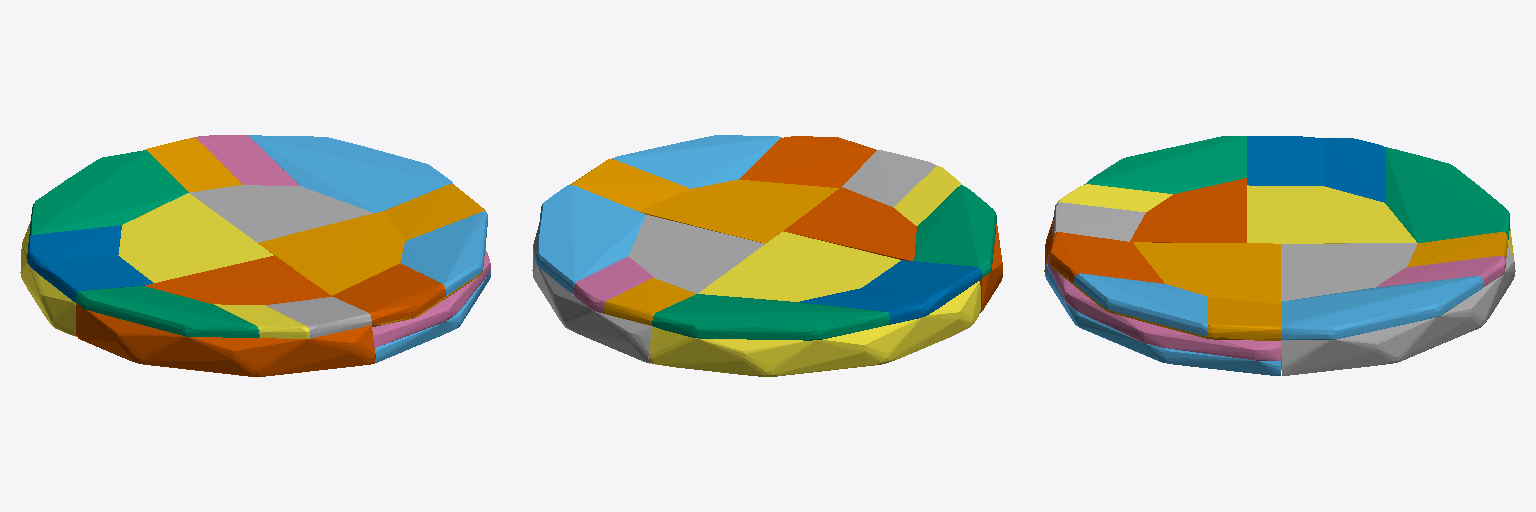
robot.urdf — root:
<robot name="root">
  <link name="link_convex_piece_012.obj">
    <inertial>
      <origin xyz="0 0 0" rpy="0 0 0"/>
    </inertial>
    <visual>
      <origin xyz="0 0 0" rpy="0 0 0"/>
      <geometry>
        <mesh filename="meshes/convex_piece_012.obj" scale="1.0 1.0 1.0"/>
      </geometry>
    </visual>
    <collision>
      <origin xyz="0 0 0" rpy="0 0 0"/>
      <geometry>
        <mesh filename="meshes/convex_piece_012.obj" scale="1.0 1.0 1.0"/>
      </geometry>
    </collision>
  </link>
  <link name="link_convex_piece_014.obj">
    <inertial>
      <origin xyz="0 0 0" rpy="0 0 0"/>
    </inertial>
    <visual>
      <origin xyz="0 0 0" rpy="0 0 0"/>
      <geometry>
        <mesh filename="meshes/convex_piece_014.obj" scale="1.0 1.0 1.0"/>
      </geometry>
    </visual>
    <collision>
      <origin xyz="0 0 0" rpy="0 0 0"/>
      <geometry>
        <mesh filename="meshes/convex_piece_014.obj" scale="1.0 1.0 1.0"/>
      </geometry>
    </collision>
  </link>
  <joint name="link_convex_piece_014.obj_joint" type="fixed">
    <origin xyz="0 0 0" rpy="0 0 0"/>
    <parent link="link_convex_piece_012.obj"/>
    <child link="link_convex_piece_014.obj"/>
  </joint>
  <link name="link_convex_piece_004.obj">
    <inertial>
      <origin xyz="0 0 0" rpy="0 0 0"/>
    </inertial>
    <visual>
      <origin xyz="0 0 0" rpy="0 0 0"/>
      <geometry>
        <mesh filename="meshes/convex_piece_004.obj" scale="1.0 1.0 1.0"/>
      </geometry>
    </visual>
    <collision>
      <origin xyz="0 0 0" rpy="0 0 0"/>
      <geometry>
        <mesh filename="meshes/convex_piece_004.obj" scale="1.0 1.0 1.0"/>
      </geometry>
    </collision>
  </link>
  <joint name="link_convex_piece_004.obj_joint" type="fixed">
    <origin xyz="0 0 0" rpy="0 0 0"/>
    <parent link="link_convex_piece_014.obj"/>
    <child link="link_convex_piece_004.obj"/>
  </joint>
  <link name="link_convex_piece_001.obj">
    <inertial>
      <origin xyz="0 0 0" rpy="0 0 0"/>
    </inertial>
    <visual>
      <origin xyz="0 0 0" rpy="0 0 0"/>
      <geometry>
        <mesh filename="meshes/convex_piece_001.obj" scale="1.0 1.0 1.0"/>
      </geometry>
    </visual>
    <collision>
      <origin xyz="0 0 0" rpy="0 0 0"/>
      <geometry>
        <mesh filename="meshes/convex_piece_001.obj" scale="1.0 1.0 1.0"/>
      </geometry>
    </collision>
  </link>
  <joint name="link_convex_piece_001.obj_joint" type="fixed">
    <origin xyz="0 0 0" rpy="0 0 0"/>
    <parent link="link_convex_piece_004.obj"/>
    <child link="link_convex_piece_001.obj"/>
  </joint>
  <link name="link_convex_piece_015.obj">
    <inertial>
      <origin xyz="0 0 0" rpy="0 0 0"/>
    </inertial>
    <visual>
      <origin xyz="0 0 0" rpy="0 0 0"/>
      <geometry>
        <mesh filename="meshes/convex_piece_015.obj" scale="1.0 1.0 1.0"/>
      </geometry>
    </visual>
    <collision>
      <origin xyz="0 0 0" rpy="0 0 0"/>
      <geometry>
        <mesh filename="meshes/convex_piece_015.obj" scale="1.0 1.0 1.0"/>
      </geometry>
    </collision>
  </link>
  <joint name="link_convex_piece_015.obj_joint" type="fixed">
    <origin xyz="0 0 0" rpy="0 0 0"/>
    <parent link="link_convex_piece_001.obj"/>
    <child link="link_convex_piece_015.obj"/>
  </joint>
  <link name="link_convex_piece_005.obj">
    <inertial>
      <origin xyz="0 0 0" rpy="0 0 0"/>
    </inertial>
    <visual>
      <origin xyz="0 0 0" rpy="0 0 0"/>
      <geometry>
        <mesh filename="meshes/convex_piece_005.obj" scale="1.0 1.0 1.0"/>
      </geometry>
    </visual>
    <collision>
      <origin xyz="0 0 0" rpy="0 0 0"/>
      <geometry>
        <mesh filename="meshes/convex_piece_005.obj" scale="1.0 1.0 1.0"/>
      </geometry>
    </collision>
  </link>
  <joint name="link_convex_piece_005.obj_joint" type="fixed">
    <origin xyz="0 0 0" rpy="0 0 0"/>
    <parent link="link_convex_piece_015.obj"/>
    <child link="link_convex_piece_005.obj"/>
  </joint>
  <link name="link_convex_piece_013.obj">
    <inertial>
      <origin xyz="0 0 0" rpy="0 0 0"/>
    </inertial>
    <visual>
      <origin xyz="0 0 0" rpy="0 0 0"/>
      <geometry>
        <mesh filename="meshes/convex_piece_013.obj" scale="1.0 1.0 1.0"/>
      </geometry>
    </visual>
    <collision>
      <origin xyz="0 0 0" rpy="0 0 0"/>
      <geometry>
        <mesh filename="meshes/convex_piece_013.obj" scale="1.0 1.0 1.0"/>
      </geometry>
    </collision>
  </link>
  <joint name="link_convex_piece_013.obj_joint" type="fixed">
    <origin xyz="0 0 0" rpy="0 0 0"/>
    <parent link="link_convex_piece_005.obj"/>
    <child link="link_convex_piece_013.obj"/>
  </joint>
  <link name="link_convex_piece_002.obj">
    <inertial>
      <origin xyz="0 0 0" rpy="0 0 0"/>
    </inertial>
    <visual>
      <origin xyz="0 0 0" rpy="0 0 0"/>
      <geometry>
        <mesh filename="meshes/convex_piece_002.obj" scale="1.0 1.0 1.0"/>
      </geometry>
    </visual>
    <collision>
      <origin xyz="0 0 0" rpy="0 0 0"/>
      <geometry>
        <mesh filename="meshes/convex_piece_002.obj" scale="1.0 1.0 1.0"/>
      </geometry>
    </collision>
  </link>
  <joint name="link_convex_piece_002.obj_joint" type="fixed">
    <origin xyz="0 0 0" rpy="0 0 0"/>
    <parent link="link_convex_piece_013.obj"/>
    <child link="link_convex_piece_002.obj"/>
  </joint>
  <link name="link_convex_piece_010.obj">
    <inertial>
      <origin xyz="0 0 0" rpy="0 0 0"/>
    </inertial>
    <visual>
      <origin xyz="0 0 0" rpy="0 0 0"/>
      <geometry>
        <mesh filename="meshes/convex_piece_010.obj" scale="1.0 1.0 1.0"/>
      </geometry>
    </visual>
    <collision>
      <origin xyz="0 0 0" rpy="0 0 0"/>
      <geometry>
        <mesh filename="meshes/convex_piece_010.obj" scale="1.0 1.0 1.0"/>
      </geometry>
    </collision>
  </link>
  <joint name="link_convex_piece_010.obj_joint" type="fixed">
    <origin xyz="0 0 0" rpy="0 0 0"/>
    <parent link="link_convex_piece_002.obj"/>
    <child link="link_convex_piece_010.obj"/>
  </joint>
  <link name="link_convex_piece_006.obj">
    <inertial>
      <origin xyz="0 0 0" rpy="0 0 0"/>
    </inertial>
    <visual>
      <origin xyz="0 0 0" rpy="0 0 0"/>
      <geometry>
        <mesh filename="meshes/convex_piece_006.obj" scale="1.0 1.0 1.0"/>
      </geometry>
    </visual>
    <collision>
      <origin xyz="0 0 0" rpy="0 0 0"/>
      <geometry>
        <mesh filename="meshes/convex_piece_006.obj" scale="1.0 1.0 1.0"/>
      </geometry>
    </collision>
  </link>
  <joint name="link_convex_piece_006.obj_joint" type="fixed">
    <origin xyz="0 0 0" rpy="0 0 0"/>
    <parent link="link_convex_piece_010.obj"/>
    <child link="link_convex_piece_006.obj"/>
  </joint>
  <link name="link_convex_piece_003.obj">
    <inertial>
      <origin xyz="0 0 0" rpy="0 0 0"/>
    </inertial>
    <visual>
      <origin xyz="0 0 0" rpy="0 0 0"/>
      <geometry>
        <mesh filename="meshes/convex_piece_003.obj" scale="1.0 1.0 1.0"/>
      </geometry>
    </visual>
    <collision>
      <origin xyz="0 0 0" rpy="0 0 0"/>
      <geometry>
        <mesh filename="meshes/convex_piece_003.obj" scale="1.0 1.0 1.0"/>
      </geometry>
    </collision>
  </link>
  <joint name="link_convex_piece_003.obj_joint" type="fixed">
    <origin xyz="0 0 0" rpy="0 0 0"/>
    <parent link="link_convex_piece_006.obj"/>
    <child link="link_convex_piece_003.obj"/>
  </joint>
  <link name="link_convex_piece_008.obj">
    <inertial>
      <origin xyz="0 0 0" rpy="0 0 0"/>
    </inertial>
    <visual>
      <origin xyz="0 0 0" rpy="0 0 0"/>
      <geometry>
        <mesh filename="meshes/convex_piece_008.obj" scale="1.0 1.0 1.0"/>
      </geometry>
    </visual>
    <collision>
      <origin xyz="0 0 0" rpy="0 0 0"/>
      <geometry>
        <mesh filename="meshes/convex_piece_008.obj" scale="1.0 1.0 1.0"/>
      </geometry>
    </collision>
  </link>
  <joint name="link_convex_piece_008.obj_joint" type="fixed">
    <origin xyz="0 0 0" rpy="0 0 0"/>
    <parent link="link_convex_piece_003.obj"/>
    <child link="link_convex_piece_008.obj"/>
  </joint>
  <link name="link_convex_piece_011.obj">
    <inertial>
      <origin xyz="0 0 0" rpy="0 0 0"/>
    </inertial>
    <visual>
      <origin xyz="0 0 0" rpy="0 0 0"/>
      <geometry>
        <mesh filename="meshes/convex_piece_011.obj" scale="1.0 1.0 1.0"/>
      </geometry>
    </visual>
    <collision>
      <origin xyz="0 0 0" rpy="0 0 0"/>
      <geometry>
        <mesh filename="meshes/convex_piece_011.obj" scale="1.0 1.0 1.0"/>
      </geometry>
    </collision>
  </link>
  <joint name="link_convex_piece_011.obj_joint" type="fixed">
    <origin xyz="0 0 0" rpy="0 0 0"/>
    <parent link="link_convex_piece_008.obj"/>
    <child link="link_convex_piece_011.obj"/>
  </joint>
  <link name="link_convex_piece_000.obj">
    <inertial>
      <origin xyz="0 0 0" rpy="0 0 0"/>
    </inertial>
    <visual>
      <origin xyz="0 0 0" rpy="0 0 0"/>
      <geometry>
        <mesh filename="meshes/convex_piece_000.obj" scale="1.0 1.0 1.0"/>
      </geometry>
    </visual>
    <collision>
      <origin xyz="0 0 0" rpy="0 0 0"/>
      <geometry>
        <mesh filename="meshes/convex_piece_000.obj" scale="1.0 1.0 1.0"/>
      </geometry>
    </collision>
  </link>
  <joint name="link_convex_piece_000.obj_joint" type="fixed">
    <origin xyz="0 0 0" rpy="0 0 0"/>
    <parent link="link_convex_piece_011.obj"/>
    <child link="link_convex_piece_000.obj"/>
  </joint>
  <link name="link_convex_piece_016.obj">
    <inertial>
      <origin xyz="0 0 0" rpy="0 0 0"/>
    </inertial>
    <visual>
      <origin xyz="0 0 0" rpy="0 0 0"/>
      <geometry>
        <mesh filename="meshes/convex_piece_016.obj" scale="1.0 1.0 1.0"/>
      </geometry>
    </visual>
    <collision>
      <origin xyz="0 0 0" rpy="0 0 0"/>
      <geometry>
        <mesh filename="meshes/convex_piece_016.obj" scale="1.0 1.0 1.0"/>
      </geometry>
    </collision>
  </link>
  <joint name="link_convex_piece_016.obj_joint" type="fixed">
    <origin xyz="0 0 0" rpy="0 0 0"/>
    <parent link="link_convex_piece_000.obj"/>
    <child link="link_convex_piece_016.obj"/>
  </joint>
  <link name="link_convex_piece_009.obj">
    <inertial>
      <origin xyz="0 0 0" rpy="0 0 0"/>
    </inertial>
    <visual>
      <origin xyz="0 0 0" rpy="0 0 0"/>
      <geometry>
        <mesh filename="meshes/convex_piece_009.obj" scale="1.0 1.0 1.0"/>
      </geometry>
    </visual>
    <collision>
      <origin xyz="0 0 0" rpy="0 0 0"/>
      <geometry>
        <mesh filename="meshes/convex_piece_009.obj" scale="1.0 1.0 1.0"/>
      </geometry>
    </collision>
  </link>
  <joint name="link_convex_piece_009.obj_joint" type="fixed">
    <origin xyz="0 0 0" rpy="0 0 0"/>
    <parent link="link_convex_piece_016.obj"/>
    <child link="link_convex_piece_009.obj"/>
  </joint>
  <link name="link_convex_piece_007.obj">
    <inertial>
      <origin xyz="0 0 0" rpy="0 0 0"/>
    </inertial>
    <visual>
      <origin xyz="0 0 0" rpy="0 0 0"/>
      <geometry>
        <mesh filename="meshes/convex_piece_007.obj" scale="1.0 1.0 1.0"/>
      </geometry>
    </visual>
    <collision>
      <origin xyz="0 0 0" rpy="0 0 0"/>
      <geometry>
        <mesh filename="meshes/convex_piece_007.obj" scale="1.0 1.0 1.0"/>
      </geometry>
    </collision>
  </link>
  <joint name="link_convex_piece_007.obj_joint" type="fixed">
    <origin xyz="0 0 0" rpy="0 0 0"/>
    <parent link="link_convex_piece_009.obj"/>
    <child link="link_convex_piece_007.obj"/>
  </joint>
  <link name="link_convex_piece_017.obj">
    <inertial>
      <origin xyz="0 0 0" rpy="0 0 0"/>
    </inertial>
    <visual>
      <origin xyz="0 0 0" rpy="0 0 0"/>
      <geometry>
        <mesh filename="meshes/convex_piece_017.obj" scale="1.0 1.0 1.0"/>
      </geometry>
    </visual>
    <collision>
      <origin xyz="0 0 0" rpy="0 0 0"/>
      <geometry>
        <mesh filename="meshes/convex_piece_017.obj" scale="1.0 1.0 1.0"/>
      </geometry>
    </collision>
  </link>
  <joint name="link_convex_piece_017.obj_joint" type="fixed">
    <origin xyz="0 0 0" rpy="0 0 0"/>
    <parent link="link_convex_piece_007.obj"/>
    <child link="link_convex_piece_017.obj"/>
  </joint>
</robot>

--- Render facts (derived) ---
Views: 3 orthographic renders of the robot side by side, from view 1: azimuth 30°, elevation 25°; view 2: azimuth 150°, elevation 25°; view 3: azimuth 270°, elevation 25°.
Model root with 18 links and 17 joints (17 fixed), rooted at link_convex_piece_012.obj, posed all joints at 0.
Links seen in each view (by area): view 1: link_convex_piece_000.obj, link_convex_piece_001.obj, link_convex_piece_006.obj, link_convex_piece_004.obj, link_convex_piece_007.obj, link_convex_piece_002.obj, link_convex_piece_003.obj, link_convex_piece_014.obj, link_convex_piece_005.obj, link_convex_piece_015.obj, link_convex_piece_010.obj, link_convex_piece_012.obj (+6 smaller); view 2: link_convex_piece_001.obj, link_convex_piece_002.obj, link_convex_piece_004.obj, link_convex_piece_006.obj, link_convex_piece_007.obj, link_convex_piece_000.obj, link_convex_piece_014.obj, link_convex_piece_003.obj, link_convex_piece_005.obj, link_convex_piece_010.obj, link_convex_piece_015.obj, link_convex_piece_009.obj (+4 smaller); view 3: link_convex_piece_002.obj, link_convex_piece_001.obj, link_convex_piece_004.obj, link_convex_piece_006.obj, link_convex_piece_007.obj, link_convex_piece_003.obj, link_convex_piece_000.obj, link_convex_piece_014.obj, link_convex_piece_016.obj, link_convex_piece_015.obj, link_convex_piece_005.obj, link_convex_piece_011.obj (+6 smaller).
Boxes of the visible links, bbox=[...] form: link_convex_piece_000.obj: bbox=[76, 256, 374, 376]; link_convex_piece_001.obj: bbox=[20, 193, 273, 336]; link_convex_piece_006.obj: bbox=[248, 135, 452, 212]; link_convex_piece_004.obj: bbox=[29, 150, 188, 238]; link_convex_piece_007.obj: bbox=[258, 211, 486, 326]; link_convex_piece_002.obj: bbox=[190, 185, 372, 242]; link_convex_piece_003.obj: bbox=[75, 286, 259, 337]; link_convex_piece_014.obj: bbox=[400, 211, 487, 295]; link_convex_piece_005.obj: bbox=[332, 263, 445, 324]; link_convex_piece_015.obj: bbox=[39, 256, 152, 302]; link_convex_piece_010.obj: bbox=[385, 184, 485, 240]; link_convex_piece_012.obj: bbox=[146, 137, 242, 192]; link_convex_piece_001.obj: bbox=[649, 231, 980, 376]; link_convex_piece_002.obj: bbox=[532, 215, 764, 363]; link_convex_piece_004.obj: bbox=[652, 294, 889, 340]; link_convex_piece_006.obj: bbox=[536, 185, 645, 294]; link_convex_piece_007.obj: bbox=[639, 180, 838, 243]; link_convex_piece_000.obj: bbox=[784, 187, 1002, 312]; link_convex_piece_014.obj: bbox=[612, 135, 781, 188]; link_convex_piece_003.obj: bbox=[914, 185, 996, 277]; link_convex_piece_005.obj: bbox=[739, 136, 876, 187]; link_convex_piece_010.obj: bbox=[570, 159, 689, 210]; link_convex_piece_015.obj: bbox=[862, 260, 981, 306]; link_convex_piece_009.obj: bbox=[842, 150, 936, 207]; link_convex_piece_002.obj: bbox=[1281, 243, 1514, 375]; link_convex_piece_001.obj: bbox=[1247, 185, 1515, 271]; link_convex_piece_004.obj: bbox=[1385, 147, 1509, 242]; link_convex_piece_006.obj: bbox=[1281, 276, 1483, 339]; link_convex_piece_007.obj: bbox=[1050, 242, 1280, 340]; link_convex_piece_003.obj: bbox=[1084, 136, 1246, 193]; link_convex_piece_000.obj: bbox=[1044, 178, 1246, 271]; link_convex_piece_014.obj: bbox=[1074, 273, 1207, 336]; link_convex_piece_016.obj: bbox=[1047, 253, 1280, 360]; link_convex_piece_015.obj: bbox=[1247, 136, 1323, 185]; link_convex_piece_005.obj: bbox=[1050, 232, 1164, 283]; link_convex_piece_011.obj: bbox=[1324, 138, 1384, 202].
Bounding box of the posed robot: 1.42 × 1.42 × 0.1981 m (x, y, z).
18 mesh visuals loaded from 18 distinct referenced files (18 OBJ).
